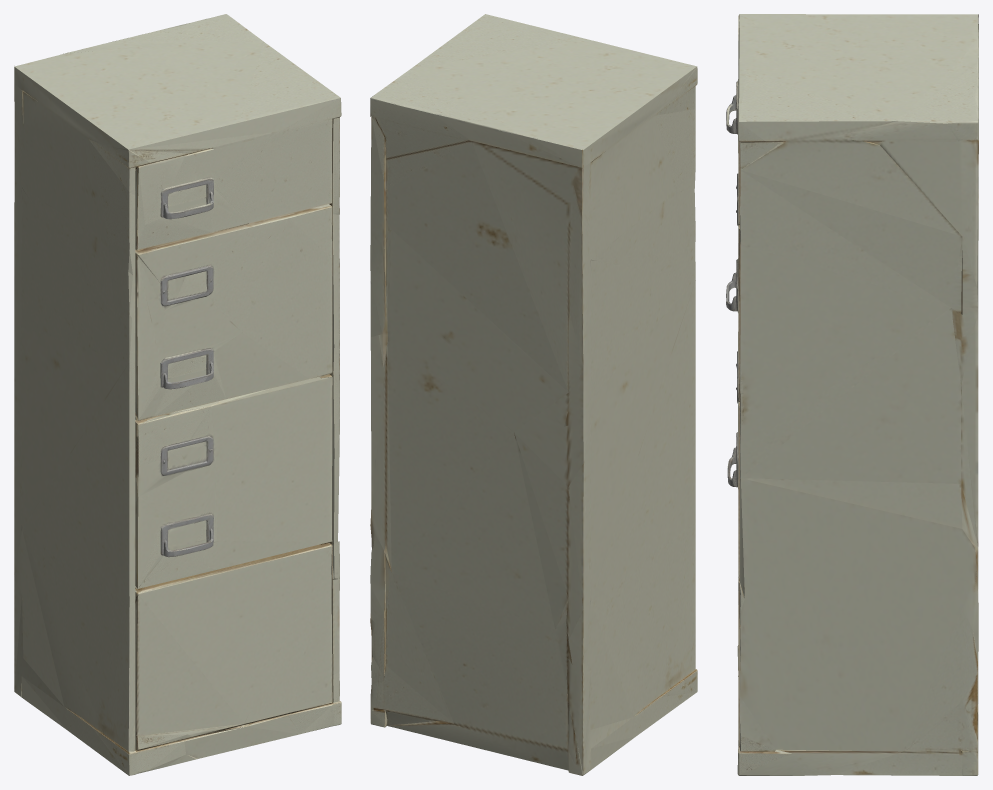
The model's file is schedario_A.glb.
The picture shows the model from 3 angles, left to right: view 1: azimuth 30°, elevation 25°; view 2: azimuth 150°, elevation 25°; view 3: azimuth 270°, elevation 25°; orthographic projection. The views are drawn at different scales.
Size of the model in its own units: 0.6776 by 1.9 by 0.6664.
Materials: 1 (1 with a texture image).
